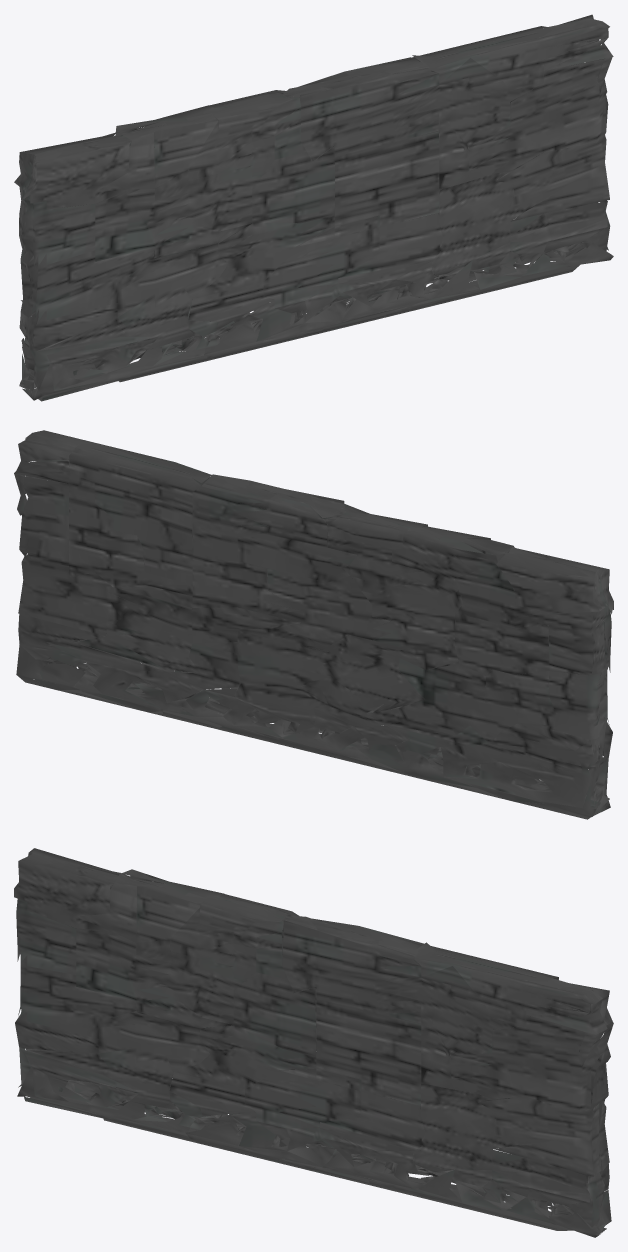
Rendered from dungeon really long tall wall.glb.
3 views of the same model, one above another, from view 1: azimuth 30°, elevation 25°; view 2: azimuth 150°, elevation 25°; view 3: azimuth 330°, elevation 25° (orthographic).
Parts seen in each view (by area): view 1: Mesh_0; view 2: Mesh_0; view 3: Mesh_0.
Part boxes in pixels (box(x1,y1,x2,y2)): Mesh_0: box(14, 14, 613, 401); Mesh_0: box(14, 430, 613, 819); Mesh_0: box(14, 848, 613, 1237).
Size of the model in its own units: 1.77 by 0.7032 by 0.1138.
Materials: 1 (1 with a texture image).
